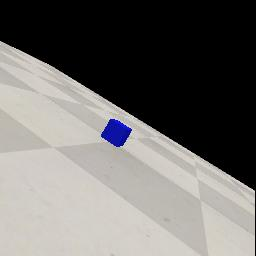box: (101, 119, 132, 147)
